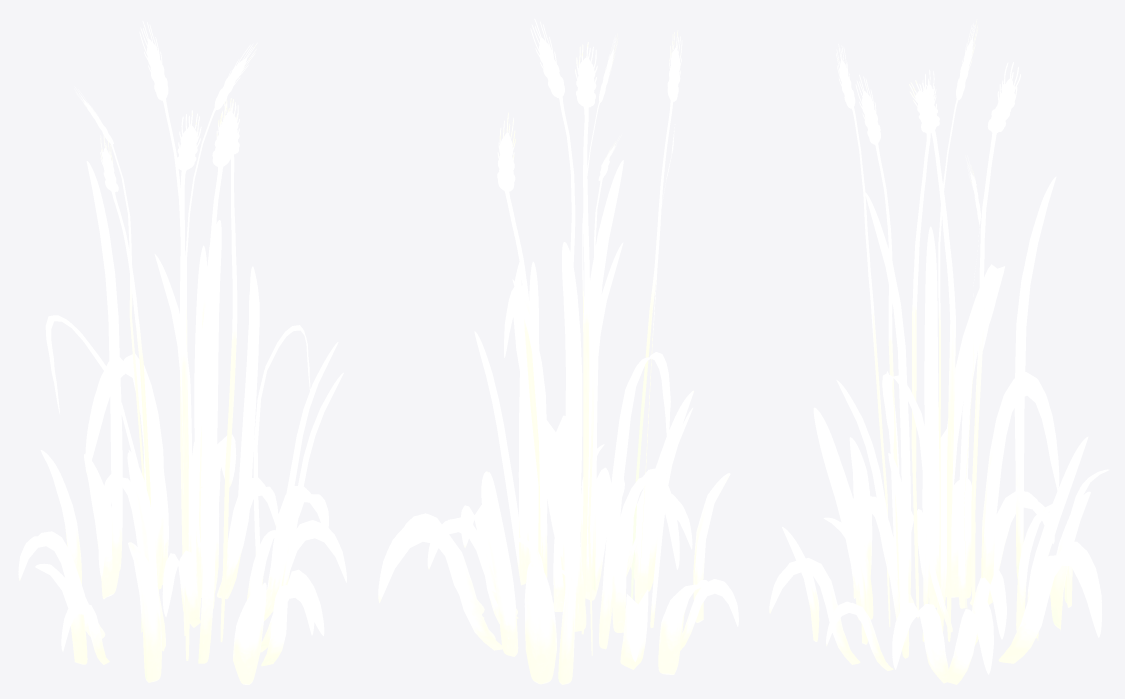
3 views of the same model, side by side, from view 1: azimuth 30°, elevation 25°; view 2: azimuth 150°, elevation 25°; view 3: azimuth 270°, elevation 25° (orthographic).
Parts seen in each view (by area): view 1: SM_Wheat_01v3_LOD0; view 2: SM_Wheat_01v3_LOD0; view 3: SM_Wheat_01v3_LOD0.
Boxes of the visible parts, box(x1,y1,x2,y2) form: SM_Wheat_01v3_LOD0: box(18, 21, 346, 684); SM_Wheat_01v3_LOD0: box(378, 18, 738, 684); SM_Wheat_01v3_LOD0: box(769, 19, 1109, 684).
Bounding box in the file's own units: 0.9745 × 1.87 × 0.937.
Materials: 1 (1 with a texture image).
